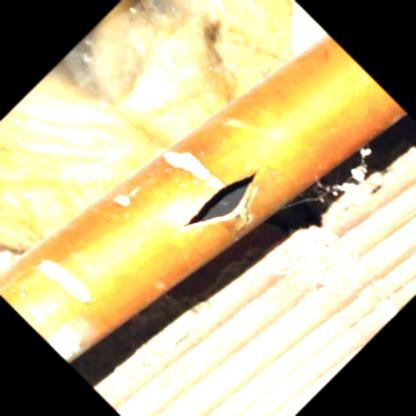burst: (179, 168, 265, 230)
